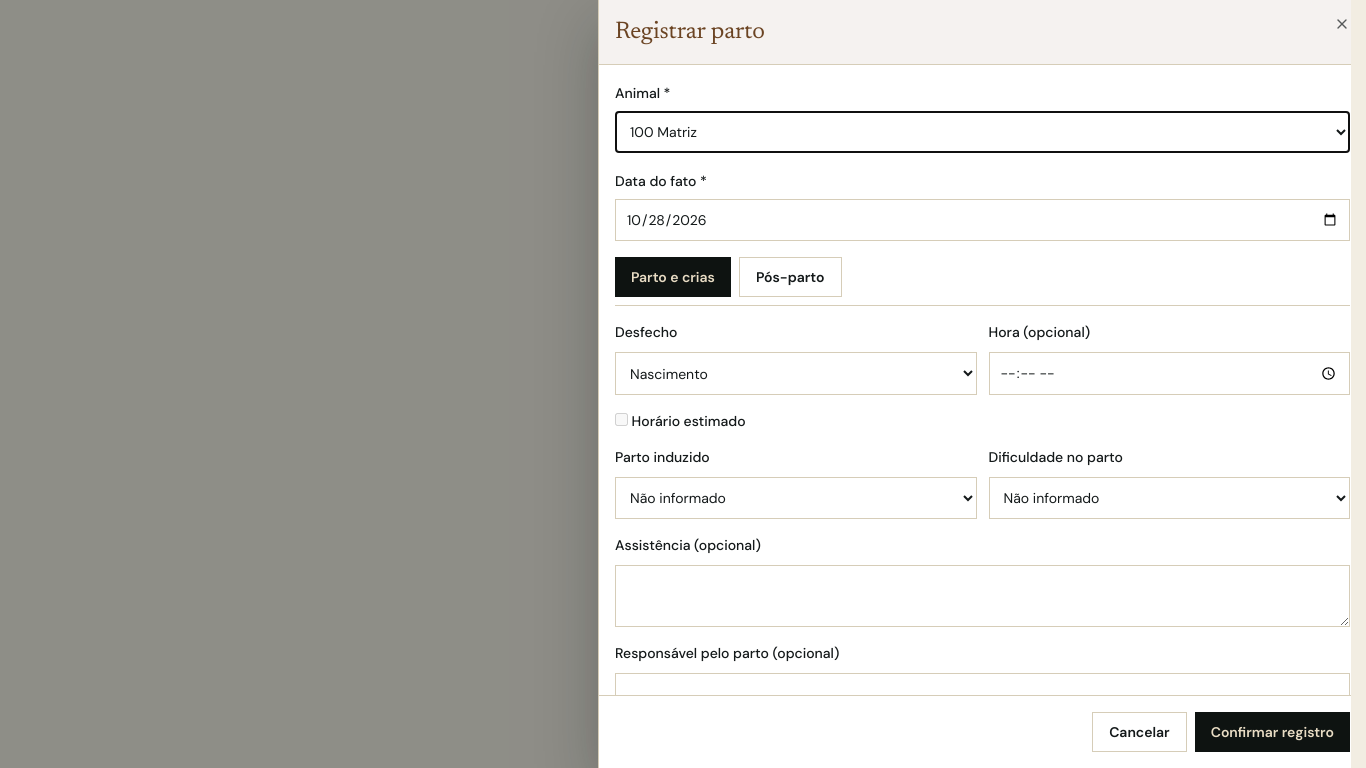
Test: novo aborto exige explicação mesmo no submit programático: ''
Select "Aborto" in the dropdown labelled "Desfecho" at (796, 373), box x1=615 y1=352 x2=976 y2=395
(page scrolled)
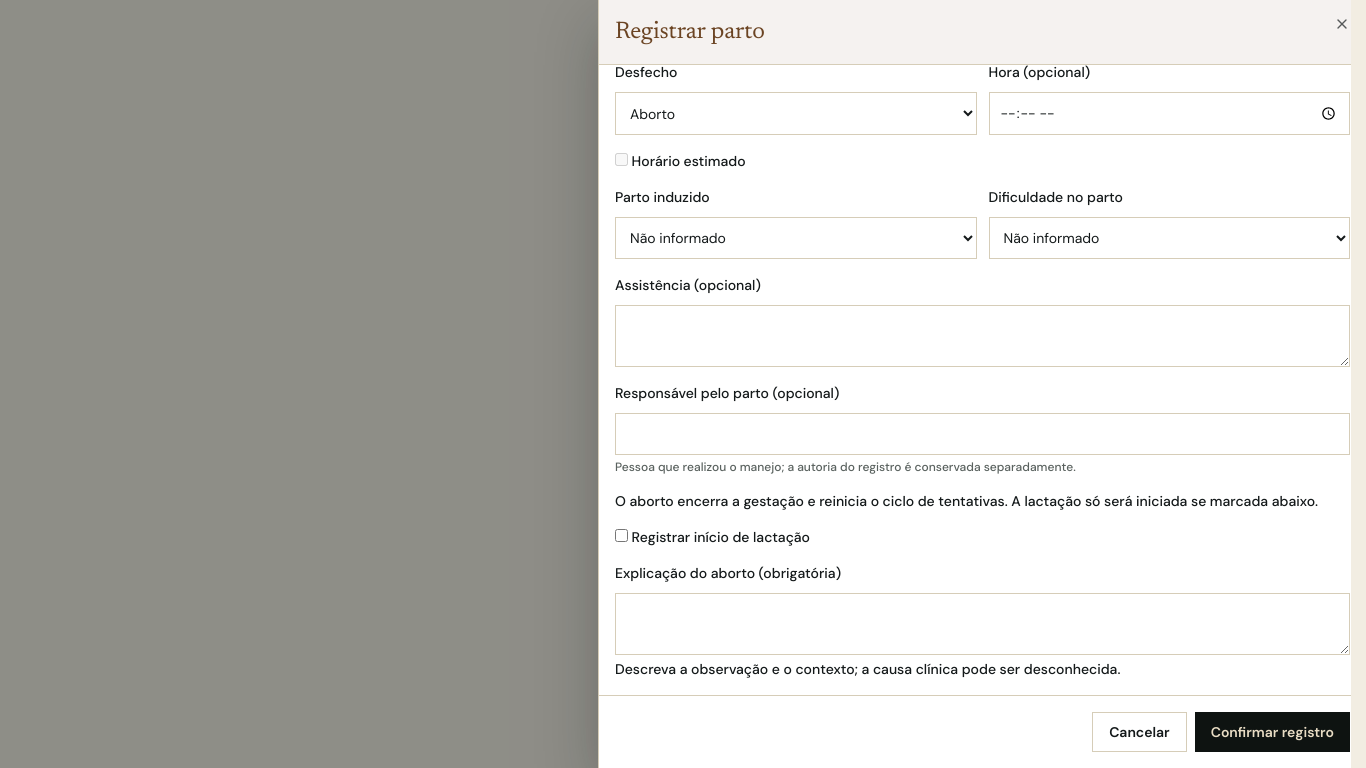
Clear the text box labelled "Explicação do aborto" at (982, 624), box x1=615 y1=593 x2=1350 y2=655
(page scrolled)
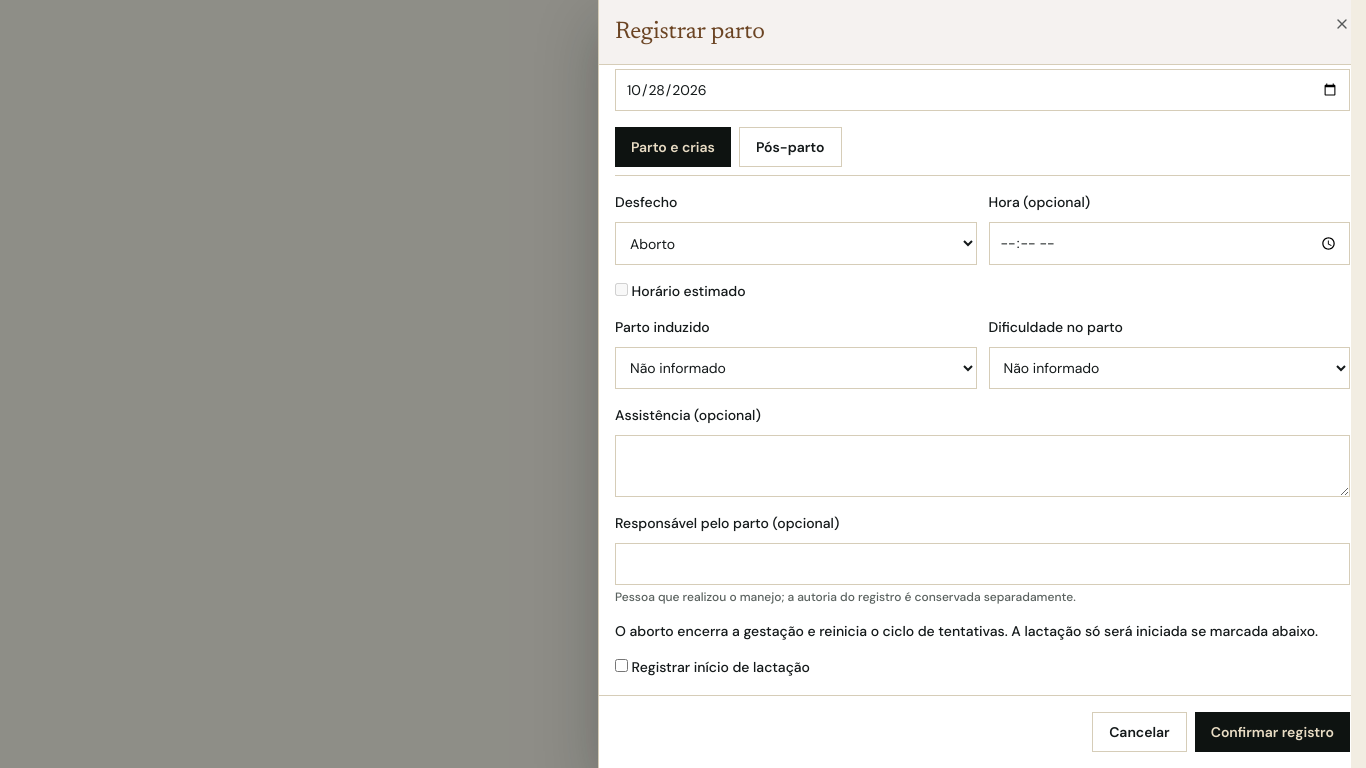
Submit the form with id "form-reproducao"
(page scrolled)
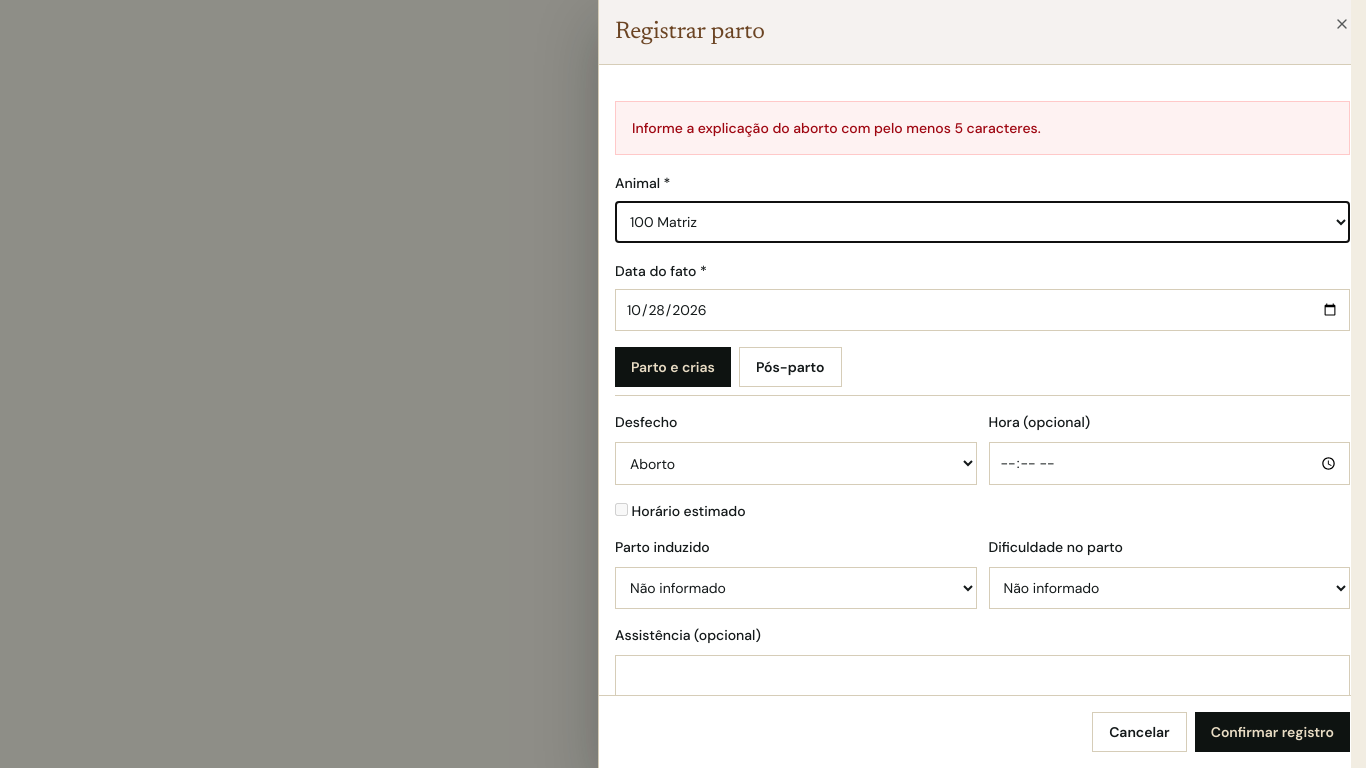
expect the text "Informe a explicação do aborto com pelo menos 5 caracteres." is shown: met, box x1=615 y1=101 x2=1350 y2=155
